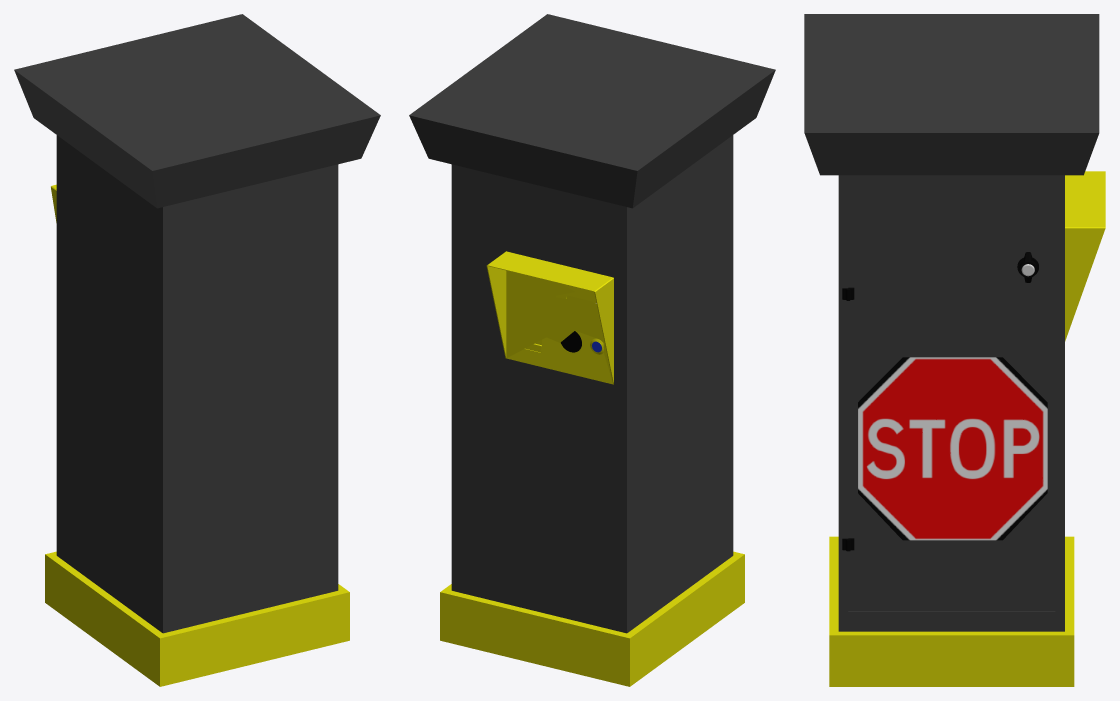
The model's file is CaixasDePagamento.fbx.
3 views of the same model, side by side, from view 1: azimuth 30°, elevation 25°; view 2: azimuth 150°, elevation 25°; view 3: azimuth 270°, elevation 25° (orthographic). The views are drawn at different scales.
Parts seen in each view (by area): view 1: CaixaDePagamento; view 2: CaixaDePagamento; view 3: CaixaDePagamento.
Boxes of the visible parts, x1,y1,x2,y2 form: CaixaDePagamento: (14,14,380,686); CaixaDePagamento: (409,14,775,686); CaixaDePagamento: (804,14,1105,686).
Size of the model in its own units: 70.53 by 156 by 75.56.
Materials: 6 (1 with a texture image).
